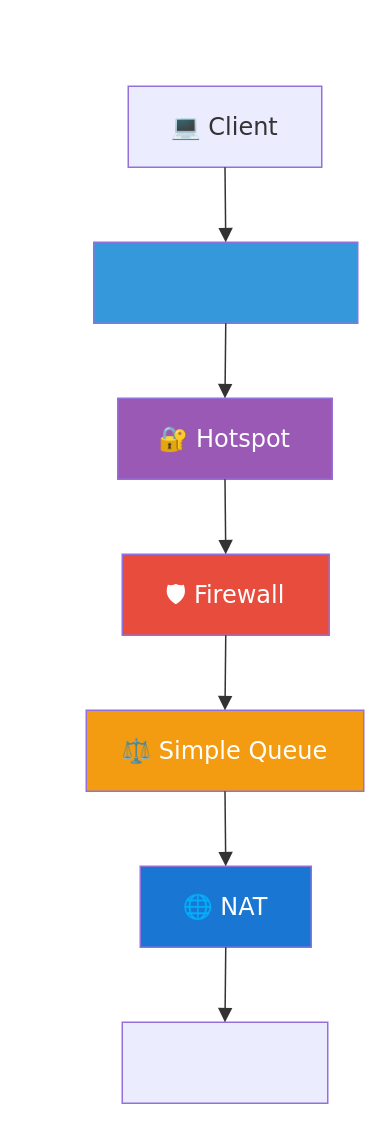
This 390x1130 diagram has some shape labels left out. Each missing label, with the box of its shape:
☁ Internet: (121, 1021, 328, 1103)
📡 DHCP Server: (92, 241, 358, 323)
